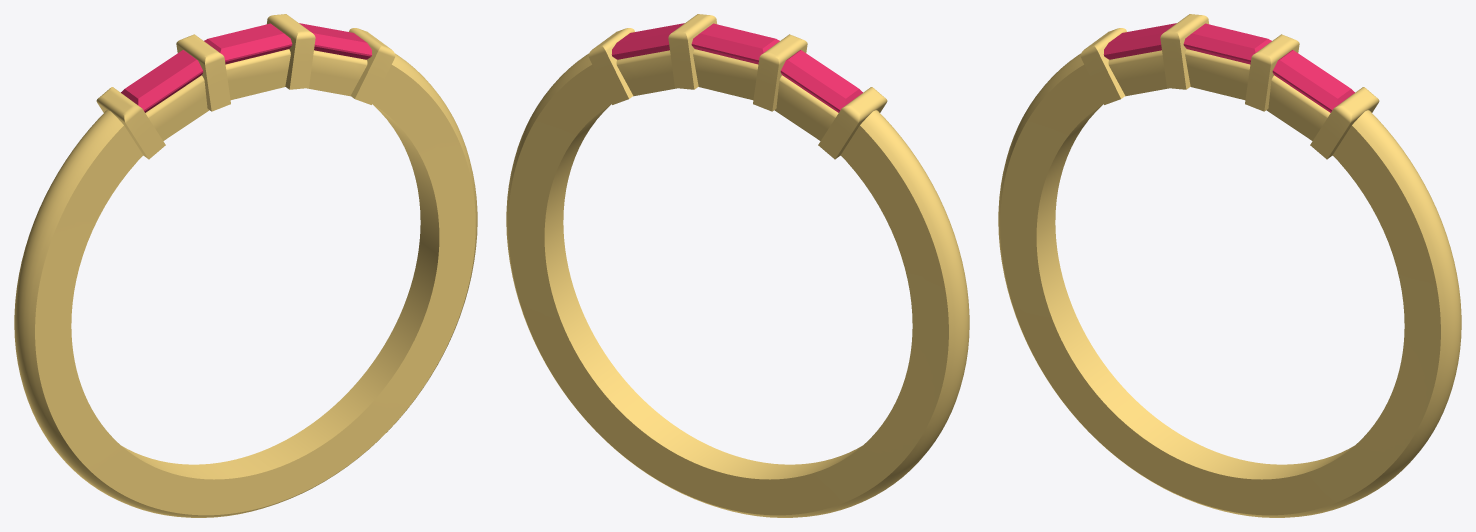
File: KylaYGruby_blender.glb
3 views of the same model, side by side, from view 1: azimuth 30°, elevation 25°; view 2: azimuth 150°, elevation 25°; view 3: azimuth 330°, elevation 25° (orthographic).
Parts seen in each view (by area): view 1: Andrew YG for 3d model, Andrew ruby for 3d model; view 2: Andrew YG for 3d model, Andrew ruby for 3d model; view 3: Andrew YG for 3d model, Andrew ruby for 3d model.
Part boxes in pixels (bbox=[...]): Andrew YG for 3d model: bbox=[14, 14, 477, 517]; Andrew ruby for 3d model: bbox=[121, 23, 372, 112]; Andrew YG for 3d model: bbox=[506, 14, 969, 517]; Andrew ruby for 3d model: bbox=[611, 23, 862, 112]; Andrew YG for 3d model: bbox=[998, 14, 1461, 517]; Andrew ruby for 3d model: bbox=[1103, 23, 1354, 112].
Size of the model in its own units: 23.37 by 23.22 by 2.54.
